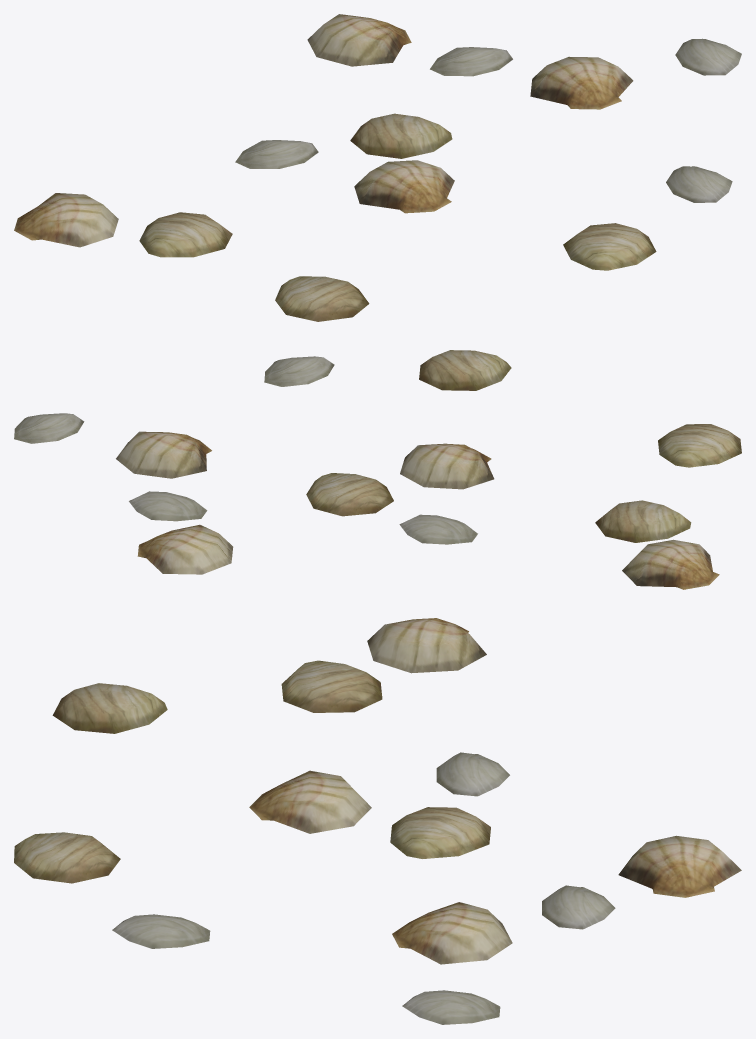
File: shells.FBX
The picture shows the model from 3 angles, top to bottom: view 1: azimuth 30°, elevation 25°; view 2: azimuth 150°, elevation 25°; view 3: azimuth 270°, elevation 25°; orthographic projection. The views are drawn at different scales.
Parts seen in each view (by area): view 1: small rocks; view 2: small rocks; view 3: small rocks.
Boxes of the visible parts, x1,y1,x2,y2 form: small rocks: [14, 14, 741, 321]; small rocks: [14, 350, 741, 589]; small rocks: [14, 618, 741, 1024].
Bounding box in the file's own units: 1.94 × 0.0597 × 1.48.
